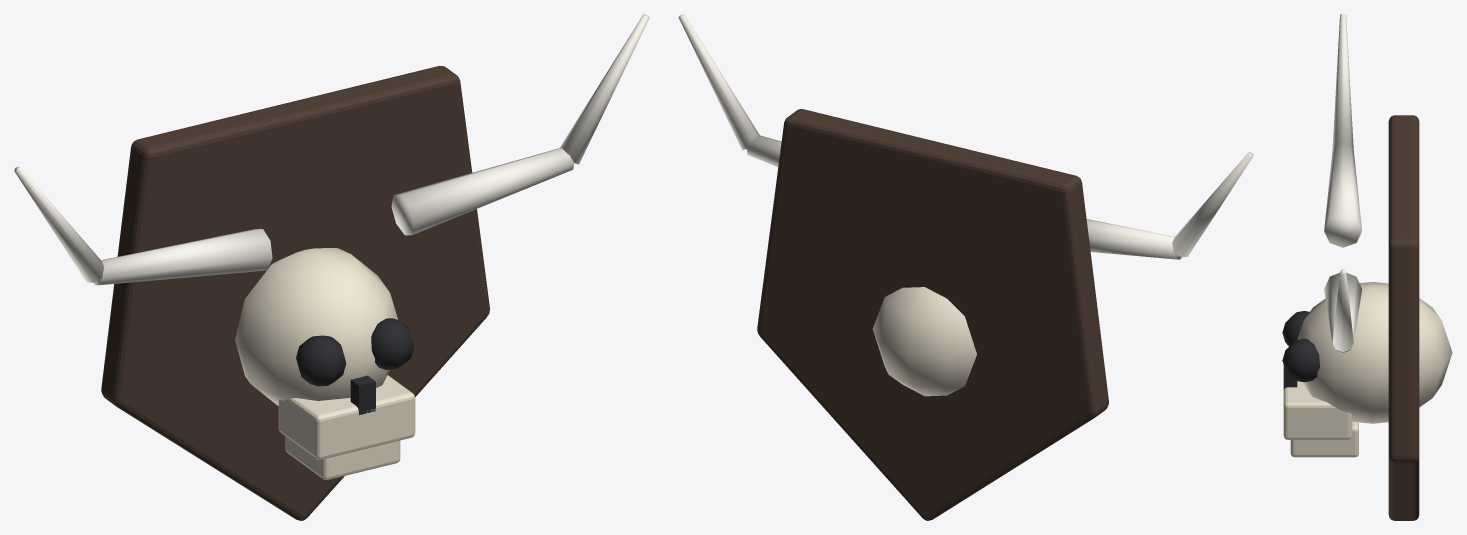
The model's file is skull_mount_bull.glb.
The picture shows the model from 3 angles, left to right: view 1: azimuth 30°, elevation 25°; view 2: azimuth 150°, elevation 25°; view 3: azimuth 270°, elevation 25°; orthographic projection. The views are drawn at different scales.
Parts seen in each view (by area): view 1: GD_skull_mount_bull__m0, GD_skull_mount_bull__m1, GD_skull_mount_bull__m2, GD_skull_mount_bull__m3; view 2: GD_skull_mount_bull__m0, GD_skull_mount_bull__m1, GD_skull_mount_bull__m2; view 3: GD_skull_mount_bull__m1, GD_skull_mount_bull__m0, GD_skull_mount_bull__m2, GD_skull_mount_bull__m3.
Part boxes in pixels (left/top/right/bottom): GD_skull_mount_bull__m0: left=101, top=66, right=489, bottom=520; GD_skull_mount_bull__m1: left=235, top=248, right=415, bottom=479; GD_skull_mount_bull__m2: left=14, top=14, right=649, bottom=285; GD_skull_mount_bull__m3: left=296, top=318, right=414, bottom=414; GD_skull_mount_bull__m0: left=757, top=109, right=1108, bottom=520; GD_skull_mount_bull__m1: left=872, top=287, right=976, bottom=396; GD_skull_mount_bull__m2: left=678, top=14, right=1253, bottom=259; GD_skull_mount_bull__m1: left=1283, top=282, right=1452, bottom=457; GD_skull_mount_bull__m0: left=1388, top=115, right=1419, bottom=520; GD_skull_mount_bull__m2: left=1324, top=14, right=1361, bottom=352; GD_skull_mount_bull__m3: left=1282, top=311, right=1319, bottom=390.
Bounding box in the file's own units: 0.8067 × 0.549 × 0.2236.
